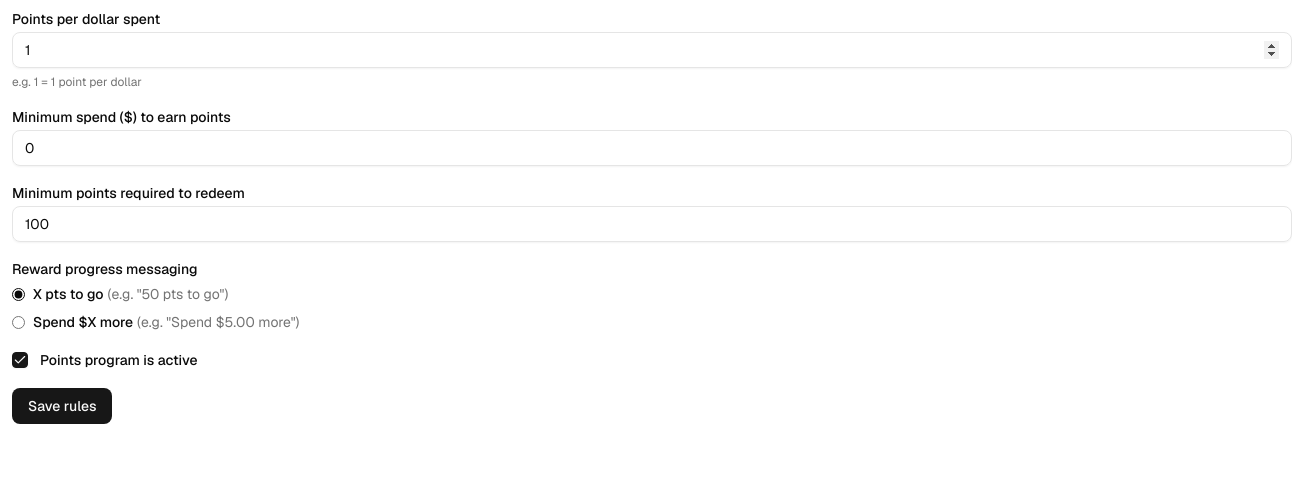
Test: PointRuleForm › shows validation error when points_per_dollar ≤ 0
The image size is (1304, 484).
Clear the number field labelled "Points per dollar spent" at (652, 50), box [12, 32, 1292, 68]
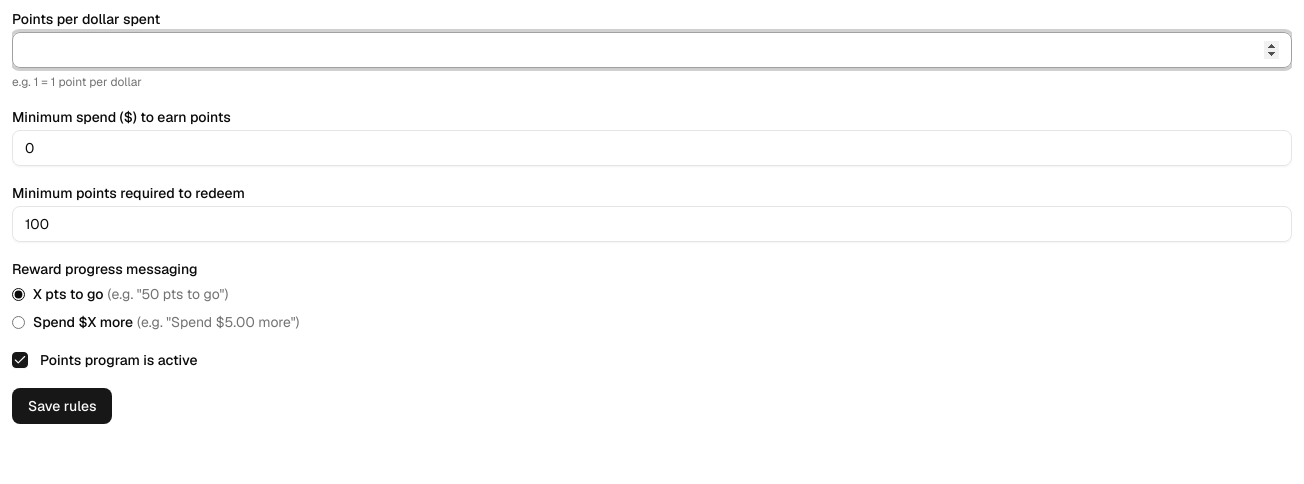
Click the button "Save rules" at (62, 406), box [12, 388, 112, 424]
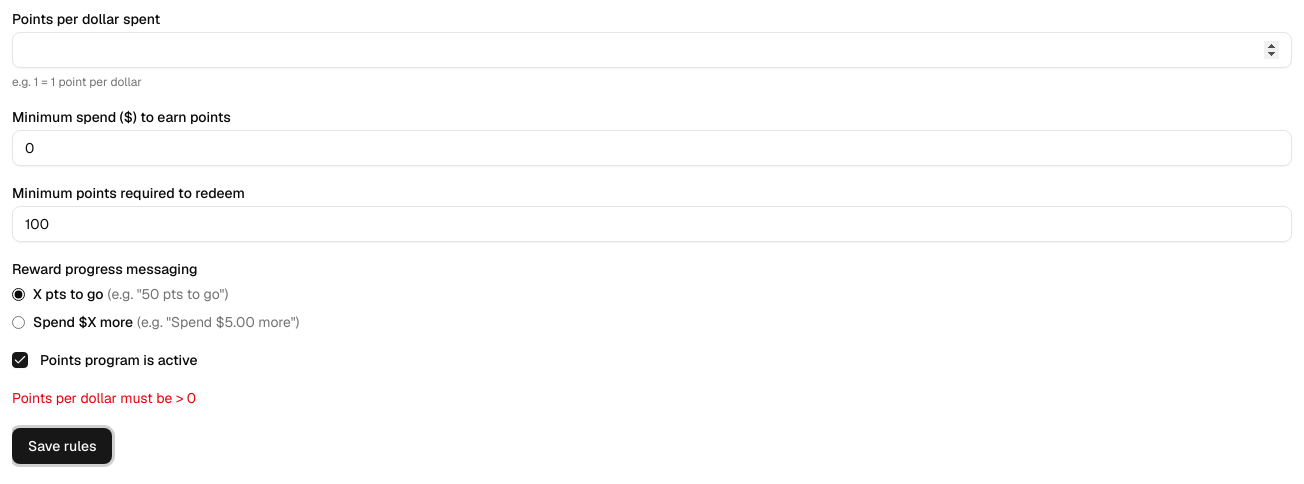
Now the text "Points per dollar must be > 0" is shown, box [12, 389, 196, 407]
